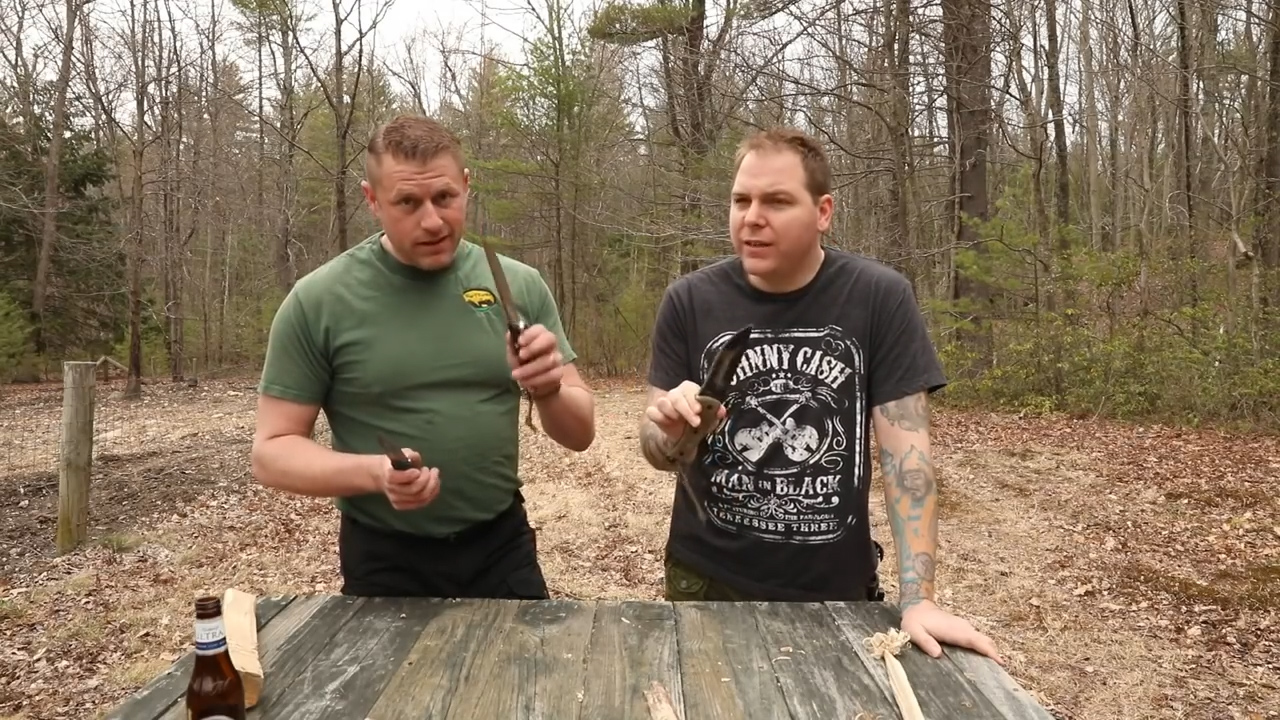knife: (470, 207, 566, 383), (365, 416, 442, 500)
